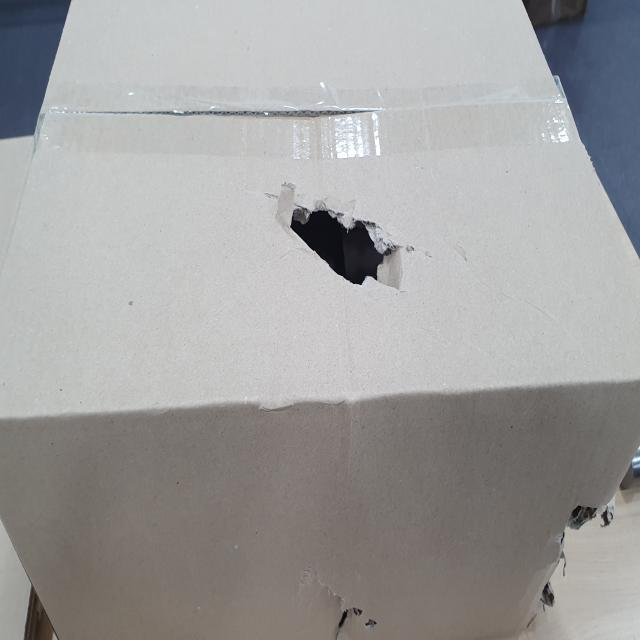hole: (490, 460, 622, 640), (280, 189, 415, 295)
